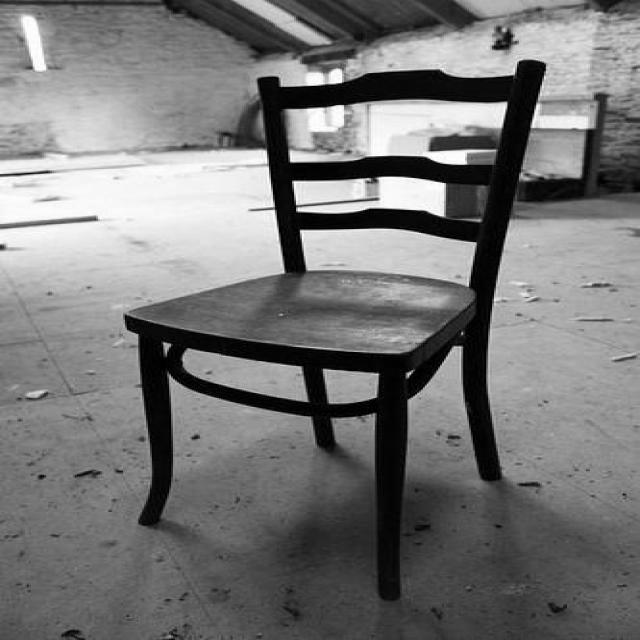chair: (120, 59, 549, 602)
